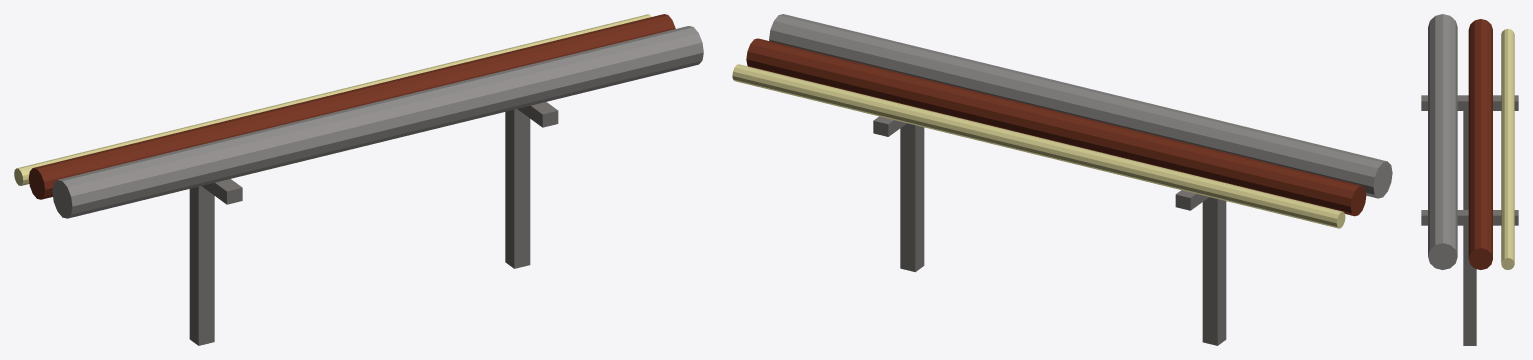
The model's file is pipe_rack_script.glb.
The picture shows the model from 3 angles, left to right: view 1: azimuth 30°, elevation 25°; view 2: azimuth 150°, elevation 25°; view 3: azimuth 270°, elevation 25°; orthographic projection. The views are drawn at different scales.
Parts seen in each view (by area): view 1: Cylinder, Cylinder.001, Cube, Cube.002, Cylinder.002, Cube.003, Cube.001; view 2: Cylinder, Cylinder.001, Cylinder.002, Cube, Cube.002; view 3: Cylinder, Cylinder.001, Cylinder.002, Cube.002, Cube, Cube.001, Cube.003.
Part boxes in pixels (x1,y1,x2,y2): Cylinder: (52,26,703,218); Cylinder.001: (28,14,675,199); Cube: (189,186,214,345); Cube.002: (505,109,530,268); Cylinder.002: (14,14,651,185); Cube.003: (517,102,558,127); Cube.001: (202,179,242,204); Cylinder: (769,14,1392,198); Cylinder.001: (746,38,1366,216); Cylinder.002: (732,64,1345,228); Cube: (1202,197,1226,345); Cube.002: (900,123,924,272); Cylinder: (1428,14,1457,269); Cylinder.001: (1468,19,1492,269); Cylinder.002: (1501,29,1514,269); Cube.002: (1463,223,1476,345); Cube: (1463,108,1468,209); Cube.001: (1421,95,1518,110); Cube.003: (1421,210,1518,225).
Bounding box in the file's own units: 20 × 6.4 × 3.6.
